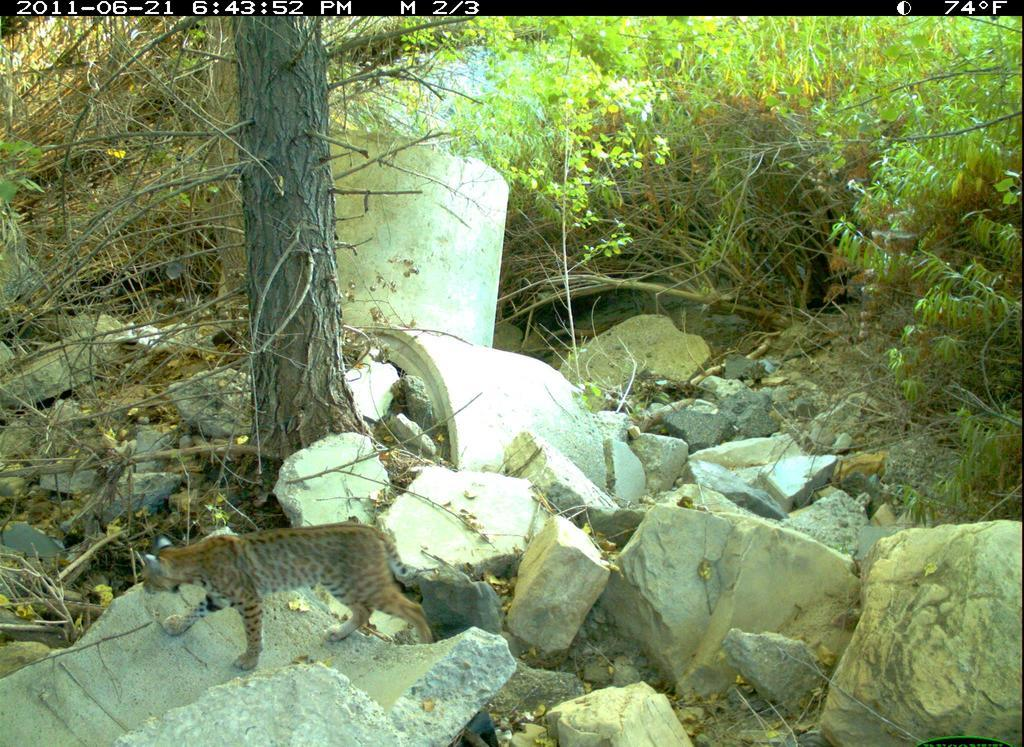bobcat: (130, 519, 440, 679)
